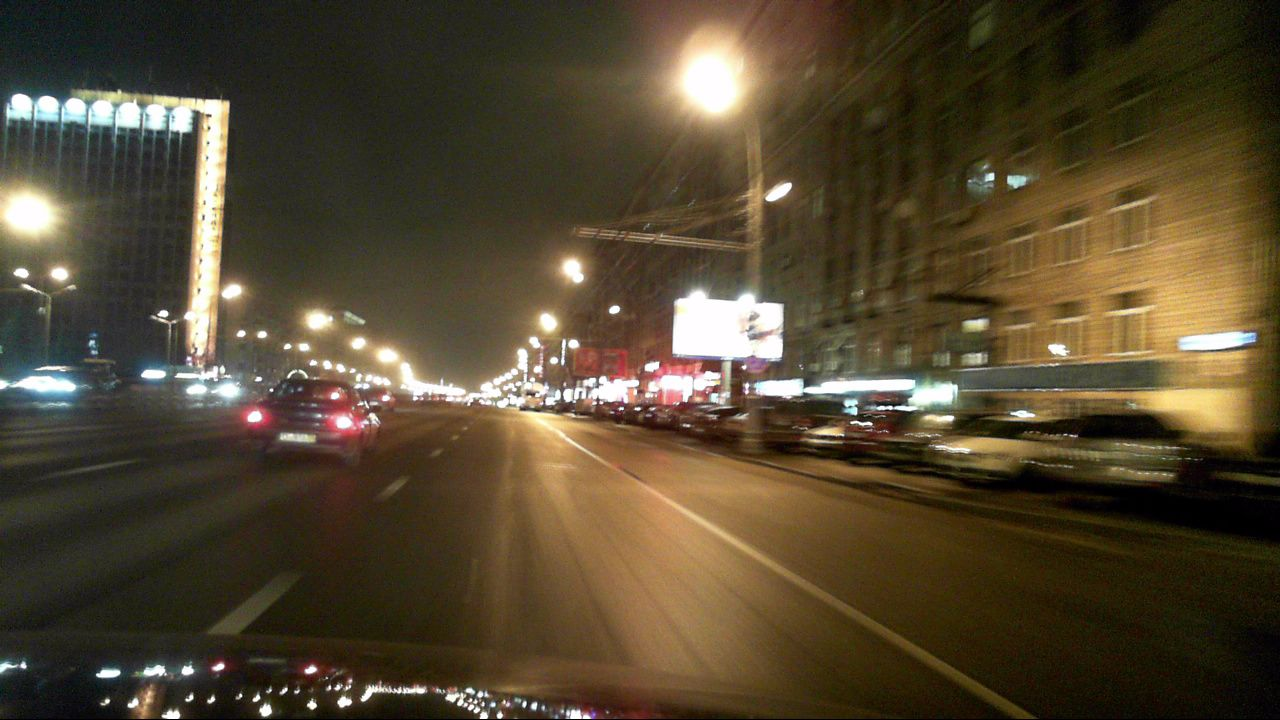No Parking: (746, 354, 766, 375)
